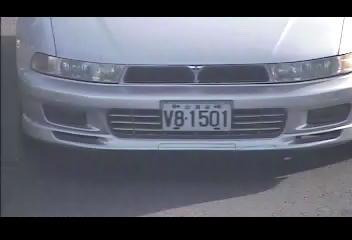plate: (160, 100, 234, 133)
